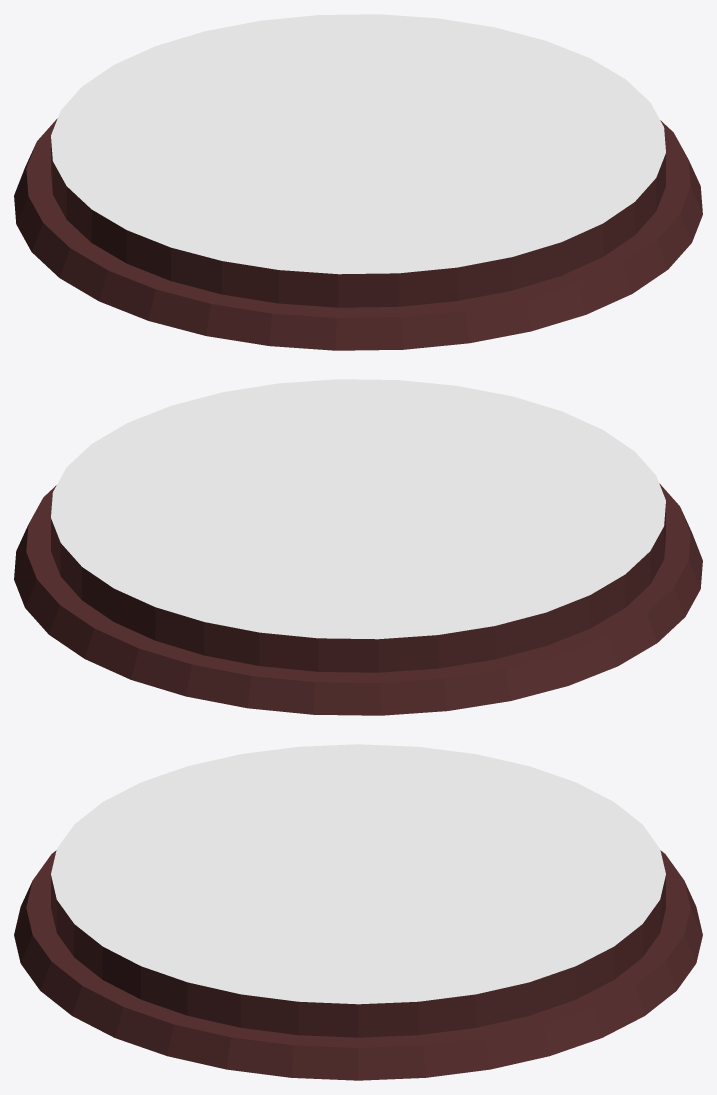
Rendered from TarMana03.glb.
3 views of the same model, one above another, from view 1: azimuth 30°, elevation 25°; view 2: azimuth 150°, elevation 25°; view 3: azimuth 270°, elevation 25° (orthographic).
Parts seen in each view (by area): view 1: TarMana03; view 2: TarMana03; view 3: TarMana03.
Part boxes in pixels (x1,y1,x2,y2): TarMana03: (14,14,702,350); TarMana03: (14,379,702,715); TarMana03: (14,744,702,1080).
Bounding box in the file's own units: 3.08 × 0.3 × 3.08.
